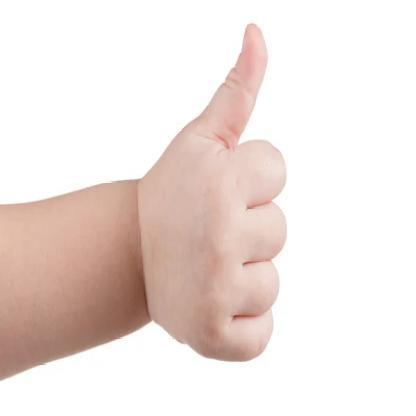thumb_up: (136, 20, 298, 366)
